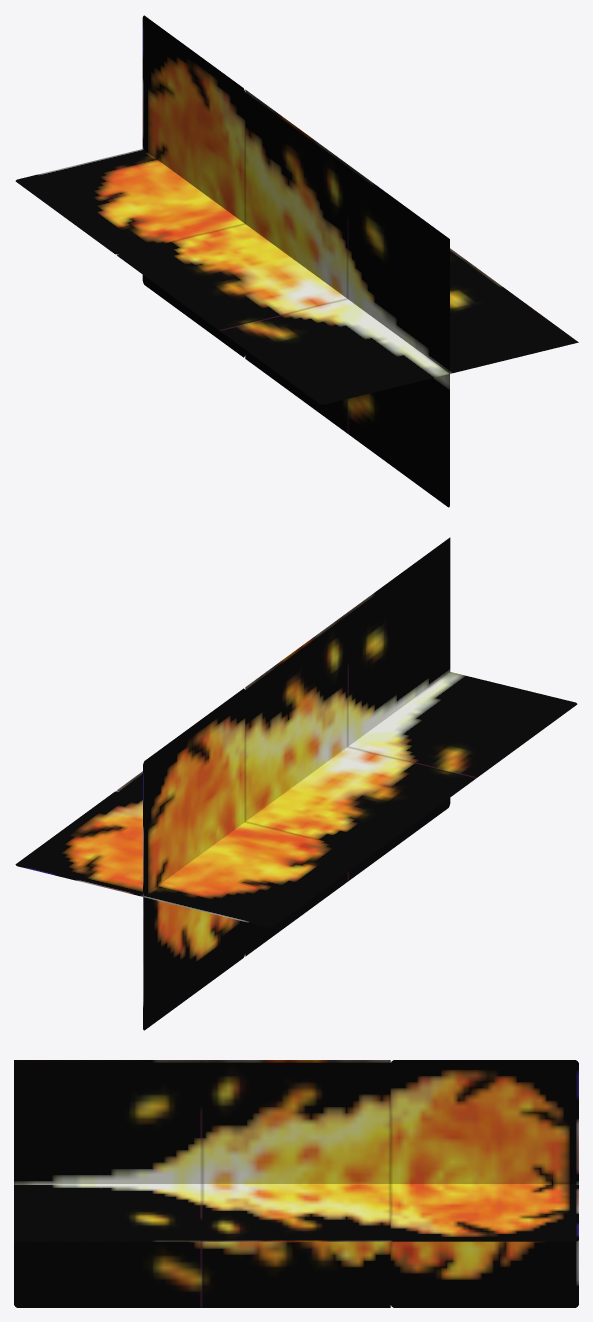
The picture shows the model from 3 angles, top to bottom: view 1: azimuth 30°, elevation 25°; view 2: azimuth 150°, elevation 25°; view 3: azimuth 270°, elevation 25°; orthographic projection. The views are drawn at different scales.
Parts seen in each view (by area): view 1: T1L4M001_23; view 2: T1L4M001_23; view 3: T1L4M001_23.
Boxes of the visible parts, left/top/right/bottom form: T1L4M001_23: left=15, top=15, right=578, bottom=507; T1L4M001_23: left=15, top=537, right=577, bottom=1030; T1L4M001_23: left=14, top=1060, right=578, bottom=1307.
Bounding box in the file's own units: 1.71 × 1.71 × 3.54.
